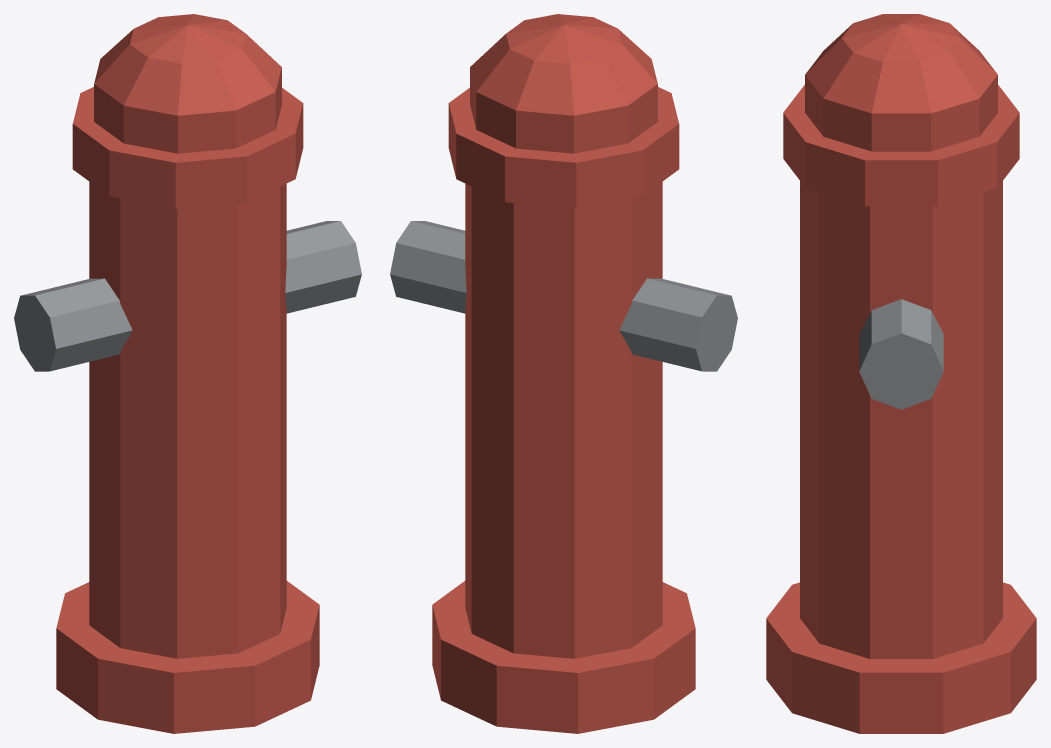
Rendered from hydrant.glb.
3 views of the same model, side by side, from view 1: azimuth 30°, elevation 25°; view 2: azimuth 150°, elevation 25°; view 3: azimuth 270°, elevation 25° (orthographic).
Visible parts, largest first — view 1: hydrant; view 2: hydrant; view 3: hydrant.
Boxes of the visible parts, x1=… form: hydrant: x1=14, y1=14, x2=361, y2=733; hydrant: x1=390, y1=14, x2=737, y2=733; hydrant: x1=766, y1=14, x2=1036, y2=733.
Bounding box in the file's own units: 0.42 × 0.856 × 0.32.
